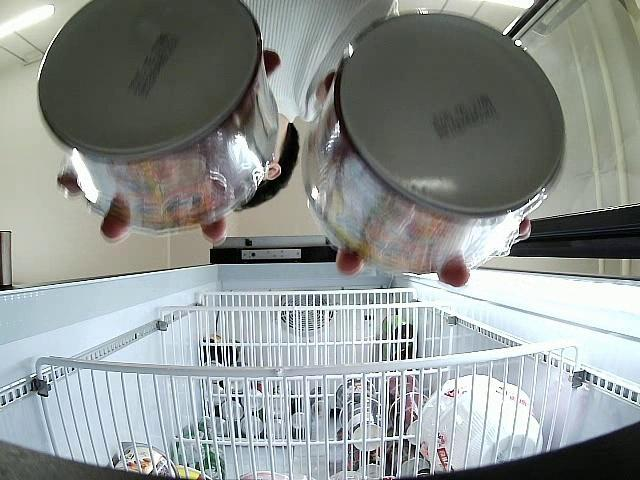05_nuguri_L: (302, 10, 566, 274), (37, 0, 278, 235)
